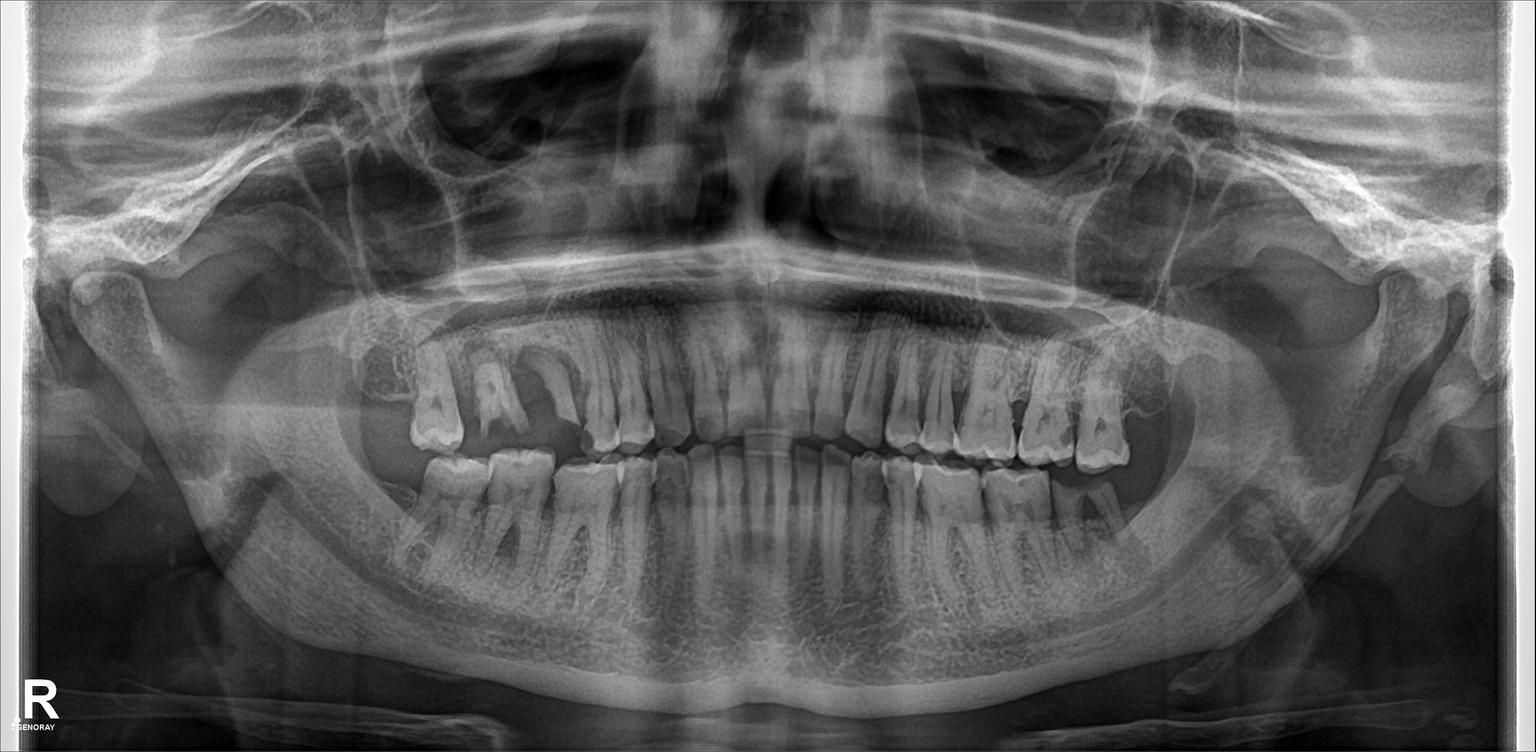Dental Caries: (479, 415, 526, 444)
Missing Tooth: (526, 341, 584, 444), (361, 335, 417, 441), (1130, 348, 1184, 438), (361, 460, 416, 536)
